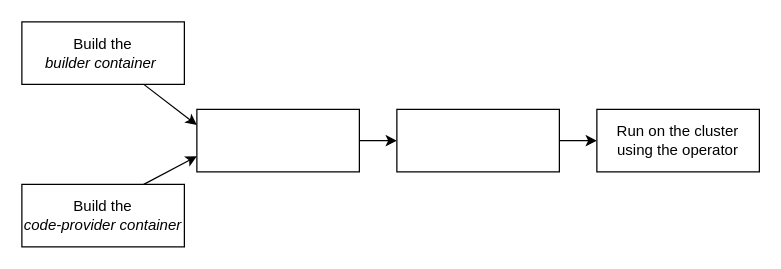
The diagram is 781 pixels wide and 269 high, and some of its shapes have lost their labels. The shapes that lost their labels are listed below. From the top down, each one's box as (x1, y1, x2, y2) in pixels, then its label:
(196, 108, 359, 172): Compile the code using the builder
(396, 108, 559, 172): Copy the binaries in the final image
